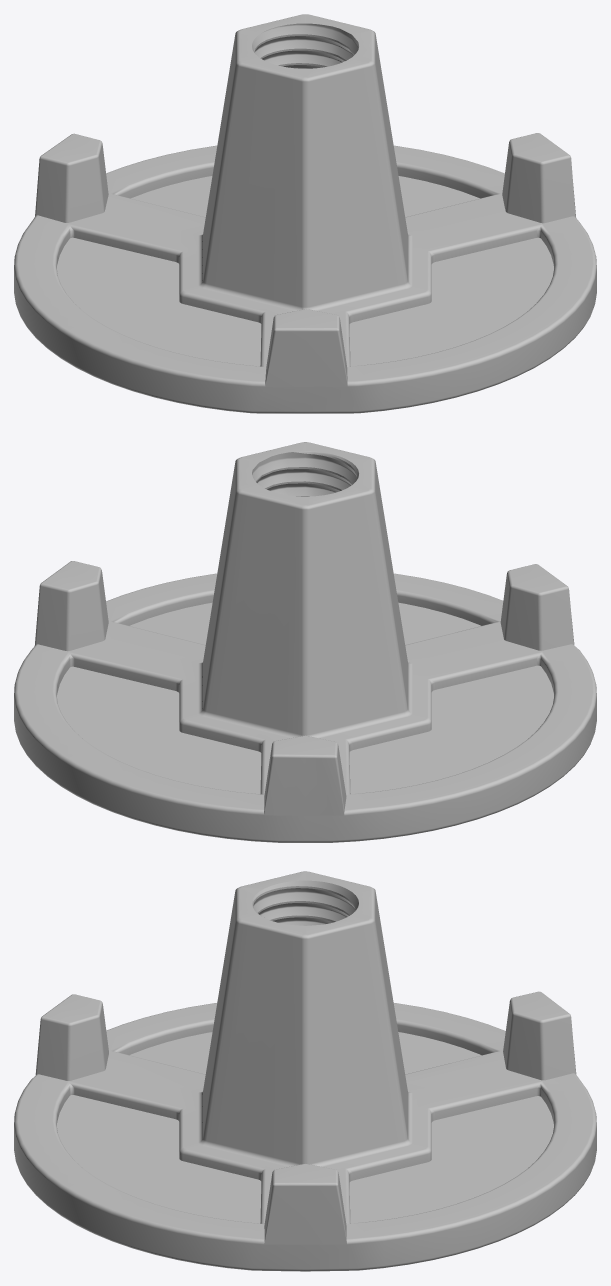
File: tie-nut.glb
3 views of the same model, one above another, from view 1: azimuth 30°, elevation 25°; view 2: azimuth 150°, elevation 25°; view 3: azimuth 270°, elevation 25° (orthographic).
Visible parts, largest first — view 1: Torus.008; view 2: Torus.008; view 3: Torus.008.
Boxes of the visible parts, x1,y1,x2,y2 form: Torus.008: (14,14,596,413); Torus.008: (14,442,596,842); Torus.008: (14,871,596,1271).
Size of the model in its own units: 0.0996 by 0.0469 by 0.1.
1 material, 1 textured.
